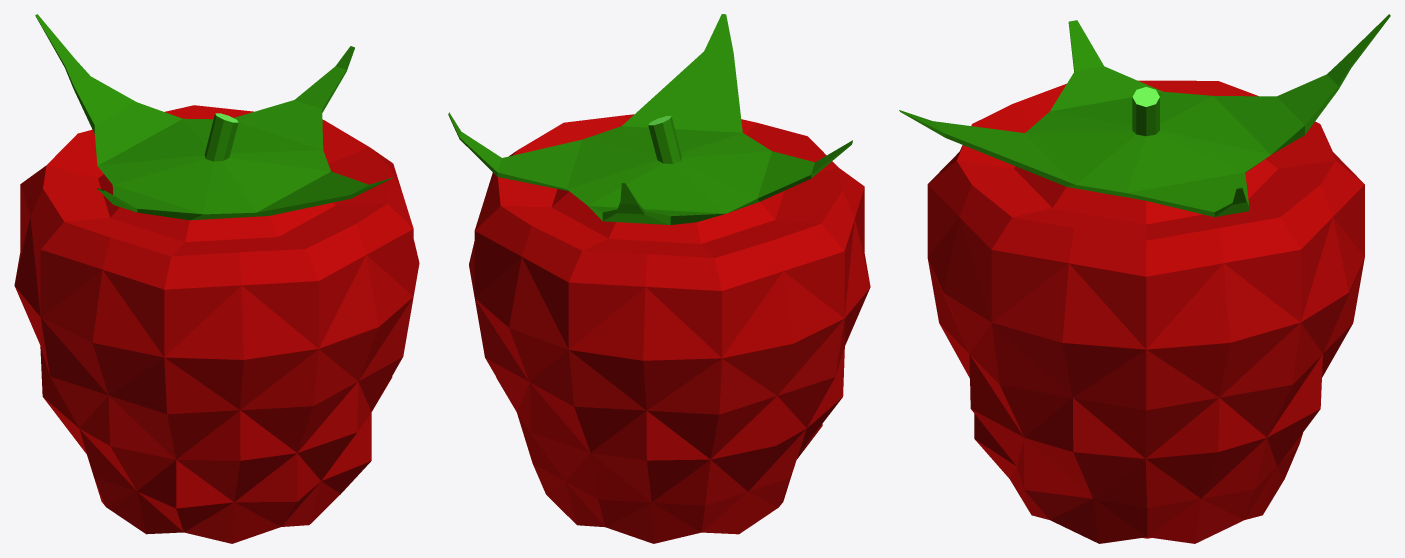
Rendered from raspberry01.gltf.
The picture shows the model from 3 angles, left to right: view 1: azimuth 30°, elevation 25°; view 2: azimuth 150°, elevation 25°; view 3: azimuth 270°, elevation 25°; orthographic projection. The views are drawn at different scales.
Visible parts, largest first — view 1: Cylinder; view 2: Cylinder; view 3: Cylinder.
Part boxes in pixels (bbox=[...]): Cylinder: bbox=[14, 14, 419, 543]; Cylinder: bbox=[448, 14, 870, 543]; Cylinder: bbox=[899, 14, 1390, 543].
Size of the model in its own units: 0.0313 by 0.0356 by 0.0348.
Materials: 1 (1 with a texture image).
